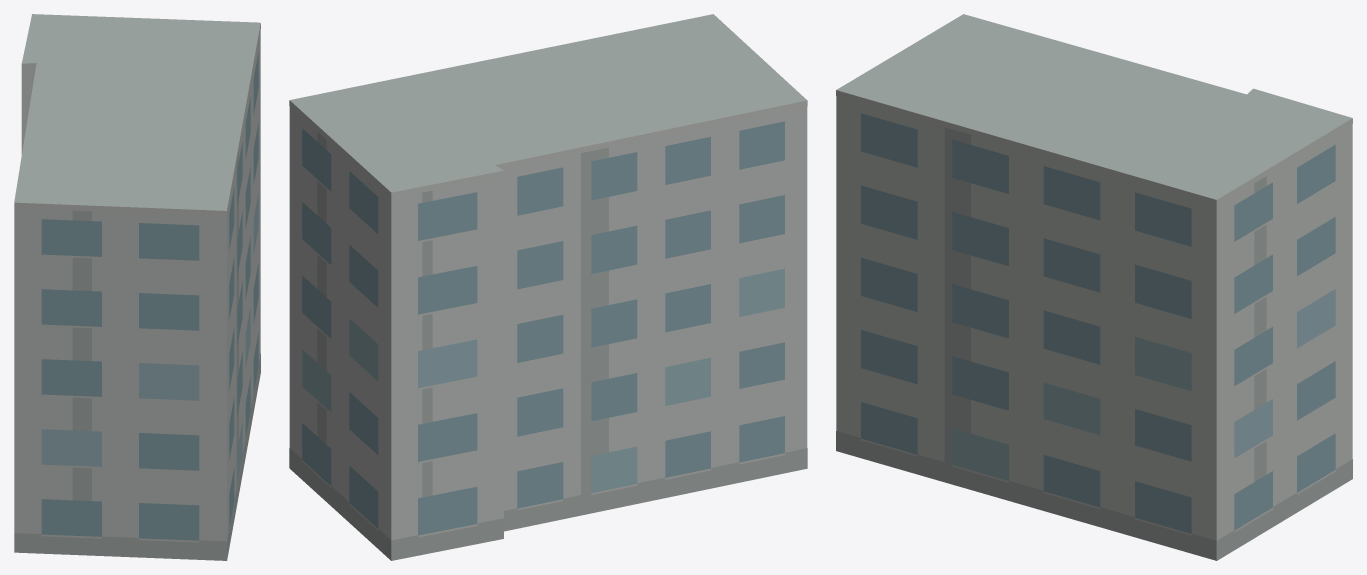
File: survey-upis-32813979.glb
3 views of the same model, side by side, from view 1: azimuth 30°, elevation 25°; view 2: azimuth 150°, elevation 25°; view 3: azimuth 270°, elevation 25° (orthographic). The views are drawn at different scales.
Parts seen in each view (by area): view 1: survey-upis-32813979.tmp; view 2: survey-upis-32813979.tmp; view 3: survey-upis-32813979.tmp.
Part boxes in pixels (bbox=[...]): survey-upis-32813979.tmp: bbox=[14, 14, 260, 560]; survey-upis-32813979.tmp: bbox=[289, 14, 807, 560]; survey-upis-32813979.tmp: bbox=[836, 14, 1352, 560].
Bounding box in the file's own units: 16.58 × 15 × 19.47.
